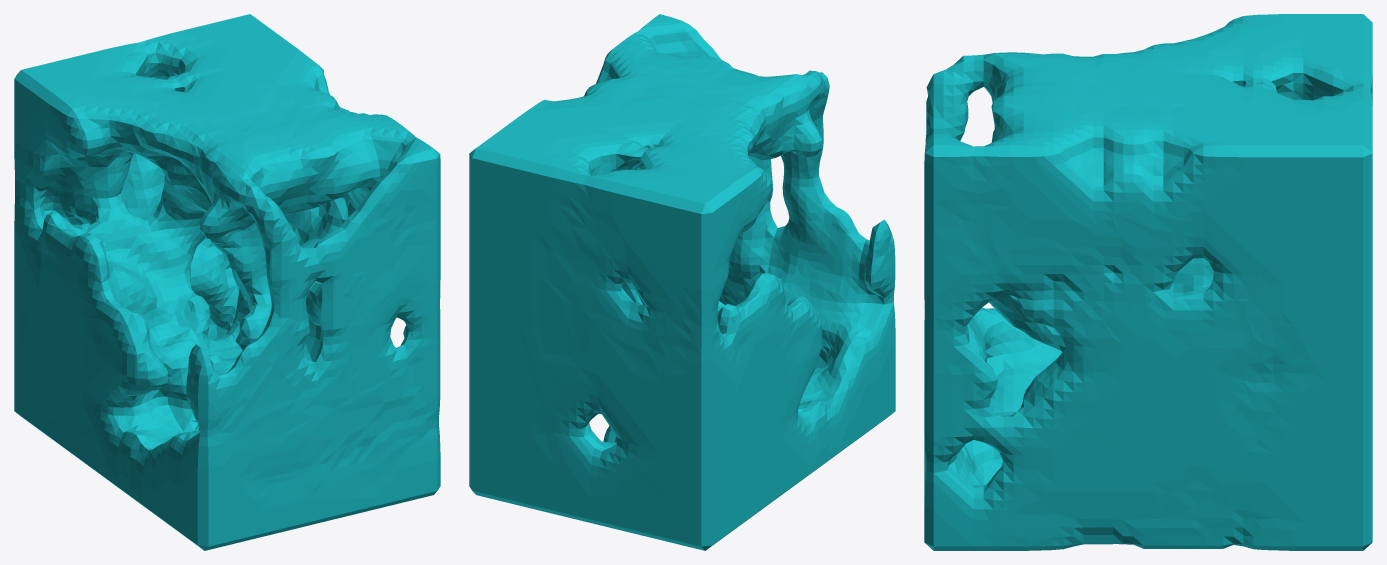
3 views of the same model, side by side, from view 1: azimuth 30°, elevation 25°; view 2: azimuth 150°, elevation 25°; view 3: azimuth 270°, elevation 25° (orthographic). The views are drawn at different scales.
Parts seen in each view (by area): view 1: Liquid_Domain; view 2: Liquid_Domain; view 3: Liquid_Domain.
Part boxes in pixels (x1,y1,x2,y2): Liquid_Domain: [14, 14, 440, 550]; Liquid_Domain: [469, 14, 895, 550]; Liquid_Domain: [924, 14, 1372, 550].
Size of the model in its own units: 79.1 by 108 by 108.
